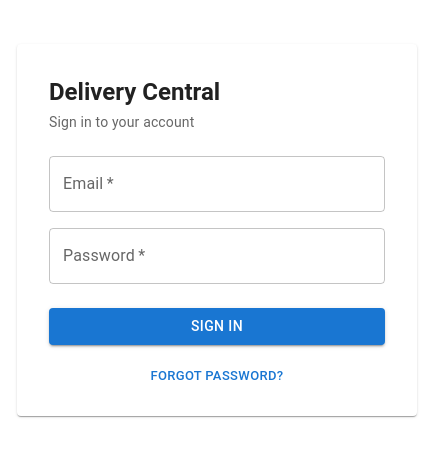
Test: LoginPage — W5-05 error alert a11y › announces the login error via role="alert" for screen readers
Type "foo@example.com" into the field labelled "Email *" at point(217, 184), box [49, 156, 385, 212]
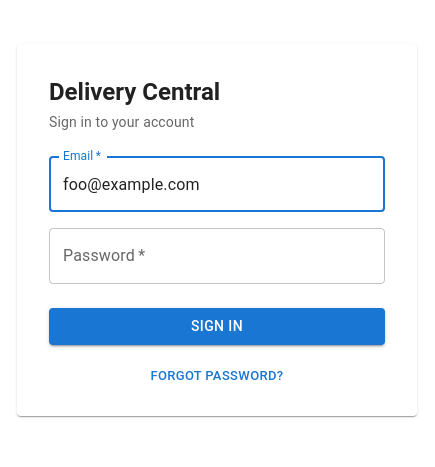
Type "wrong" into the password field labelled "Password *" at point(217, 256), box [49, 228, 385, 284]
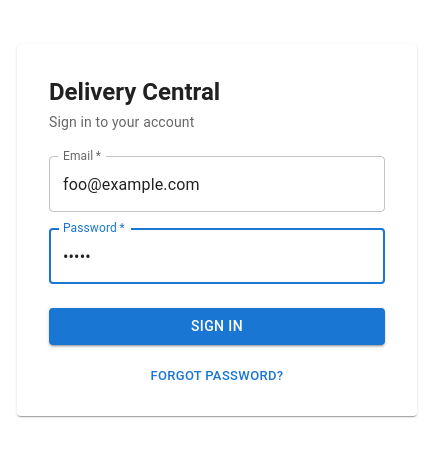
Click the button "Sign in" at point(217, 327), box [49, 308, 385, 345]
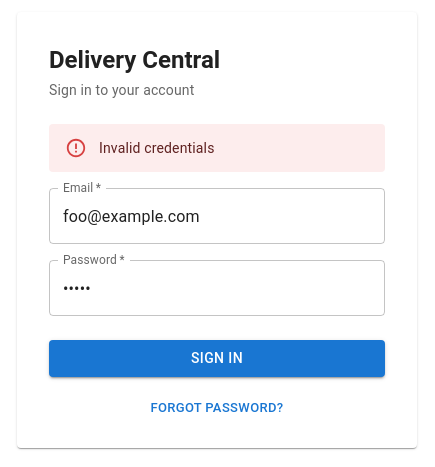
Result: the message reads "Invalid credentials" at [99, 140, 214, 156]
